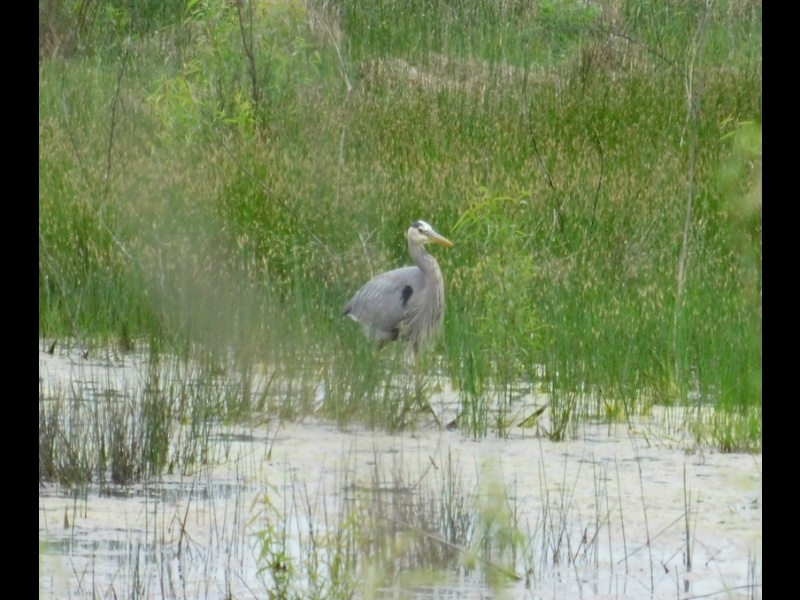heron: (335, 215, 455, 429)
